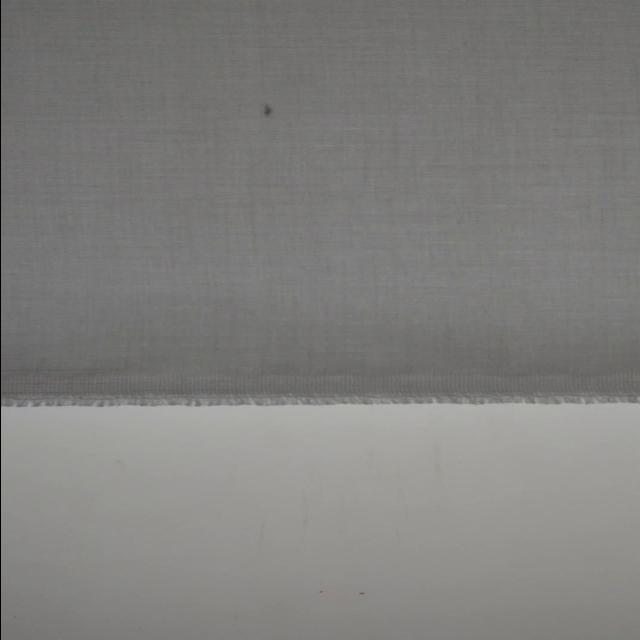dirty: (259, 104, 276, 118)
